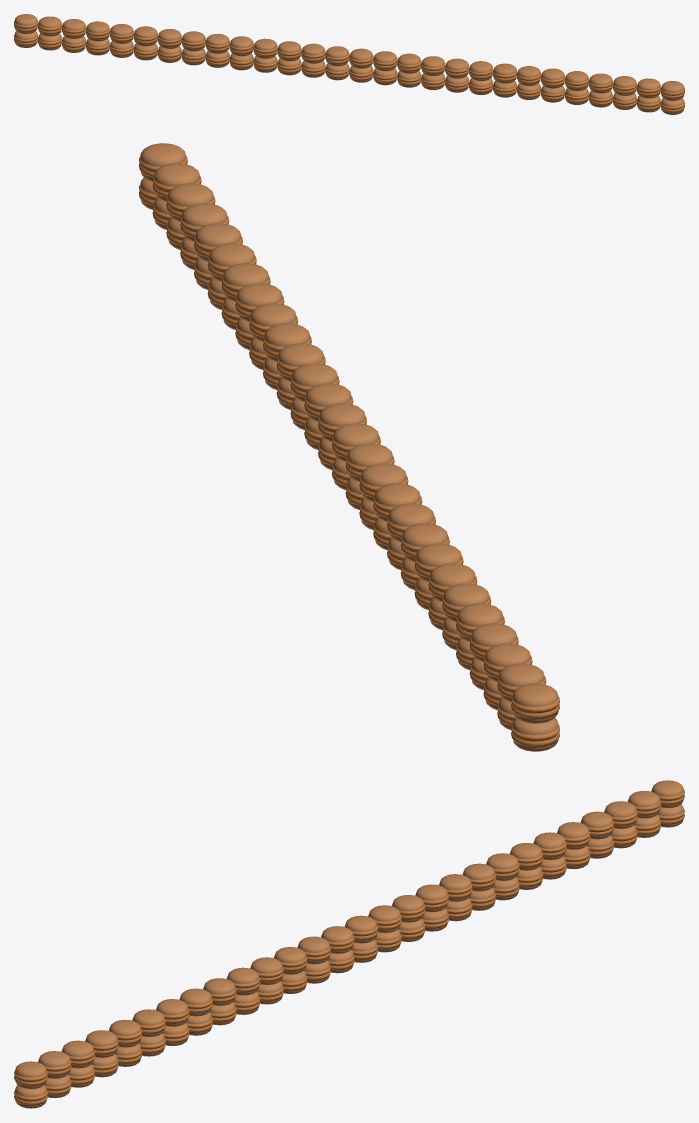
The model's file is macaron_wall.fbx.
3 views of the same model, one above another, from view 1: azimuth 30°, elevation 25°; view 2: azimuth 150°, elevation 25°; view 3: azimuth 270°, elevation 25° (orthographic). The views are drawn at different scales.
Visible parts, largest first — view 1: 円.004; view 2: 円.004; view 3: 円.004.
Part boxes in pixels (x1,y1,x2,y2): 円.004: [14, 14, 684, 114]; 円.004: [139, 143, 559, 751]; 円.004: [14, 780, 684, 1108].
Size of the model in its own units: 329 by 20.14 by 316.
